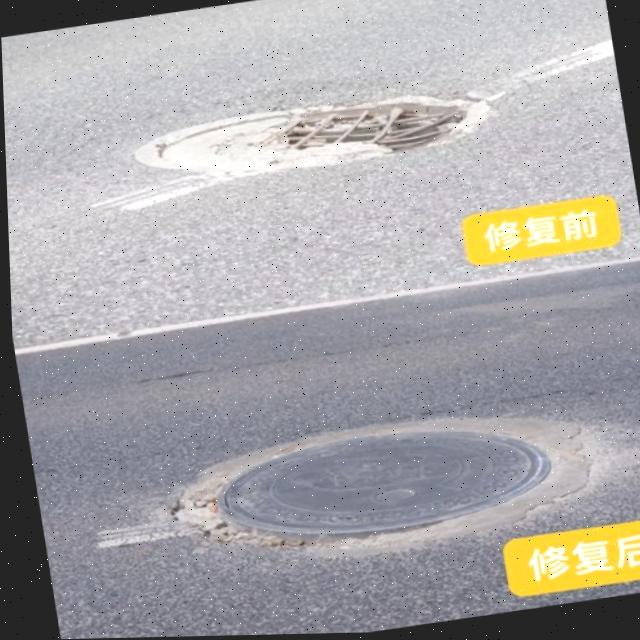manhole: (116, 70, 499, 201)
